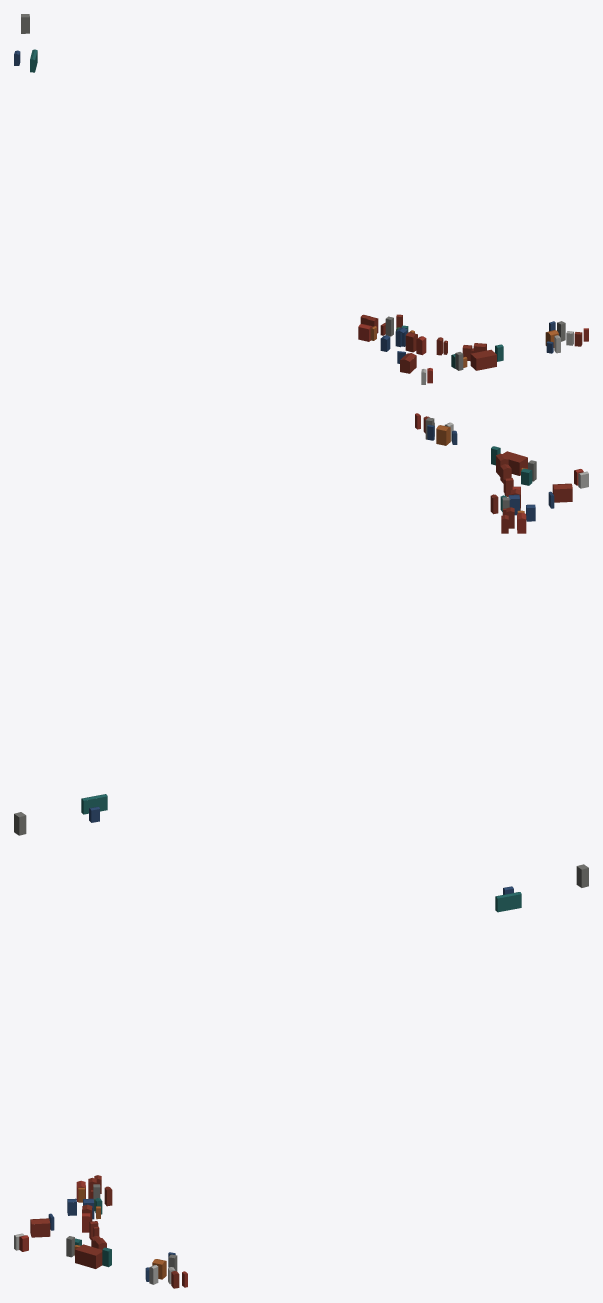
File: near-15-27349-14878.cae64656.glb
3 views of the same model, one above another, from view 1: azimuth 30°, elevation 25°; view 2: azimuth 150°, elevation 25°; view 3: azimuth 330°, elevation 25° (orthographic). The views are drawn at different scales.
Size of the model in its own units: 239 by 37.88 by 1162.
